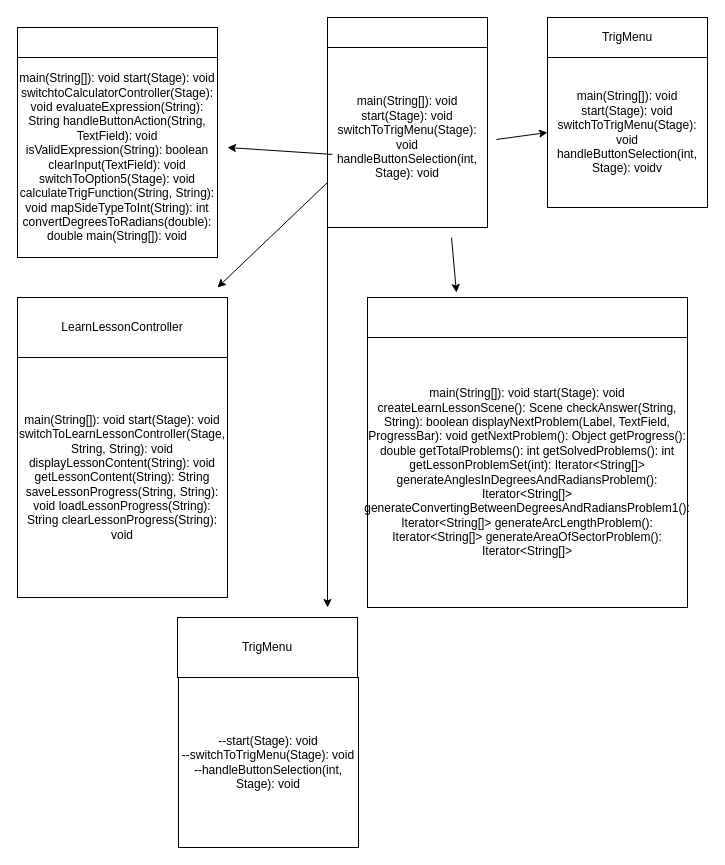
Image size: 725x865. Some labels were removed from this diagram. Here are the shapes that lost their labels. From the top down, the box of each, then its label:
(16, 26, 218, 58): CalculatorController
(326, 16, 488, 48): TrigProjectTestClass
(366, 296, 688, 338): PracticeController
